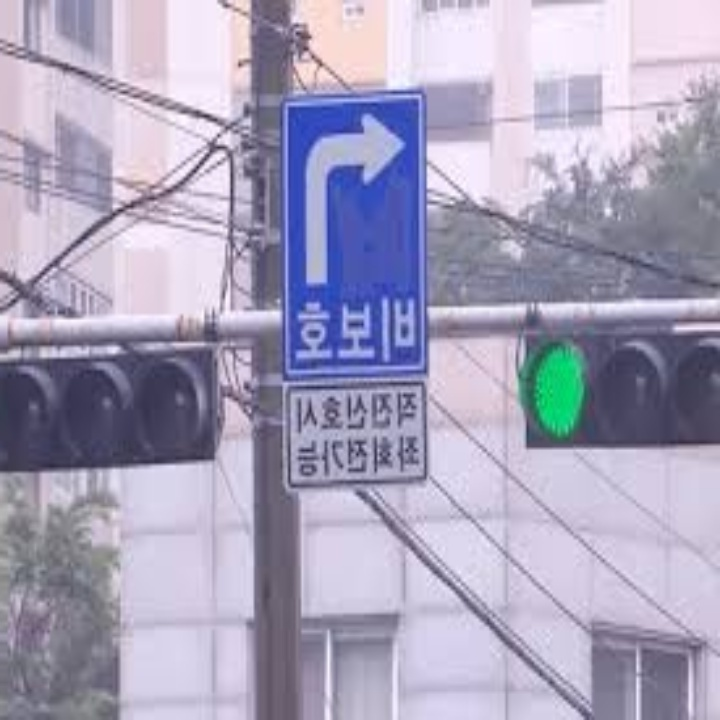right: (296, 103, 412, 295)
